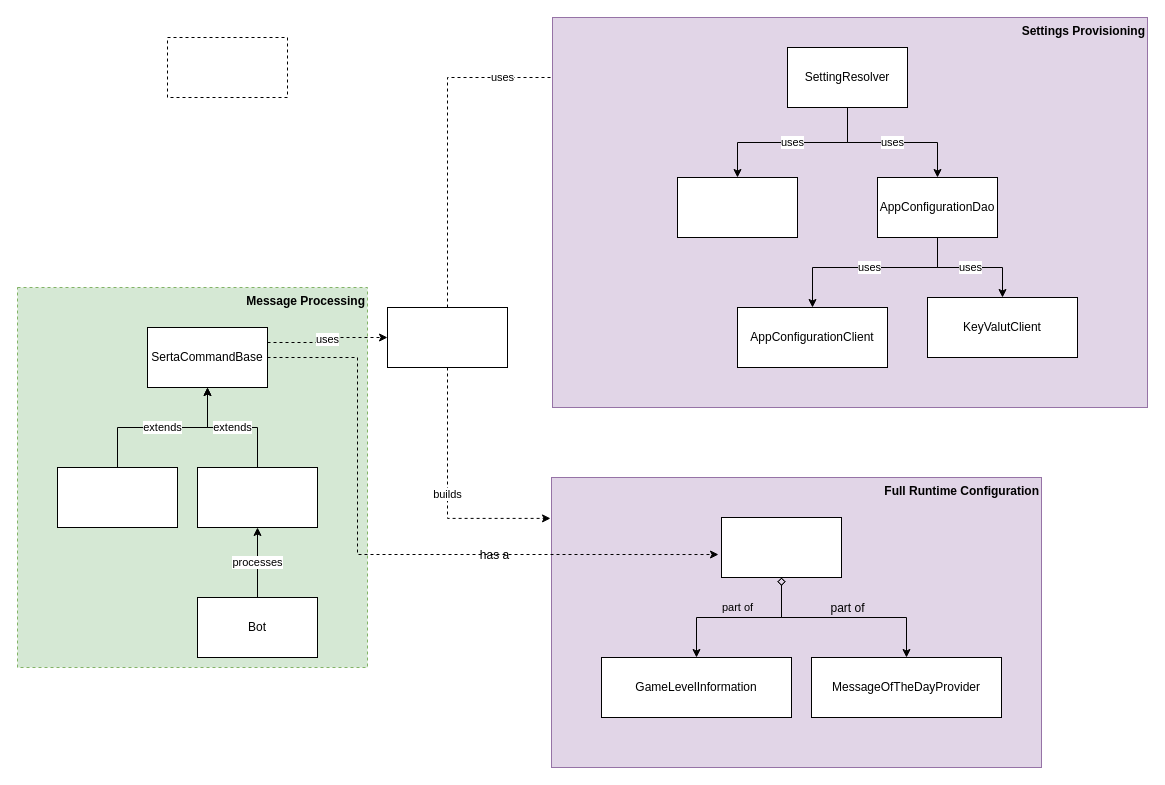
This 1165x785 diagram has some shape labels left out. Here are the shapes that lost their labels. From the top down, the centre of each, then its label:
At (x=227, y=67): "EnvironmentAccessor".
At (x=737, y=207): "EnvironmentDao".
At (x=447, y=337): "ConfigurationBuilder".
At (x=117, y=497): "SertaUpCommand".
At (x=257, y=497): "SertaDownCommand".
At (x=781, y=547): "SertaConfiguration".
